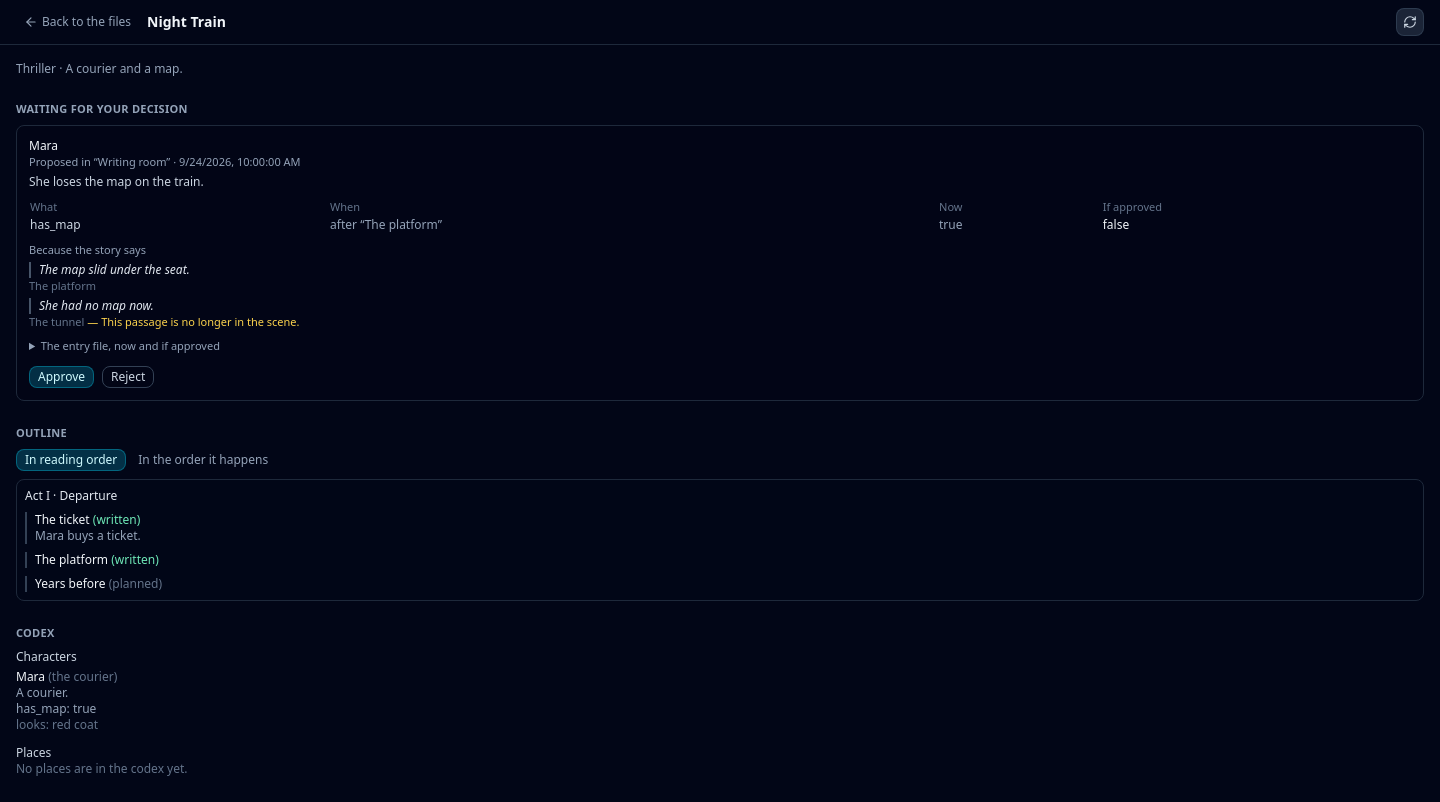
Test: StoryView, a story in Files (#1560) › a decision from a window the Core did not open shows its refusal and offers a confirmed window
Click the button with test id "story-approve".
click(62, 377)  # box [29,366,94,388]
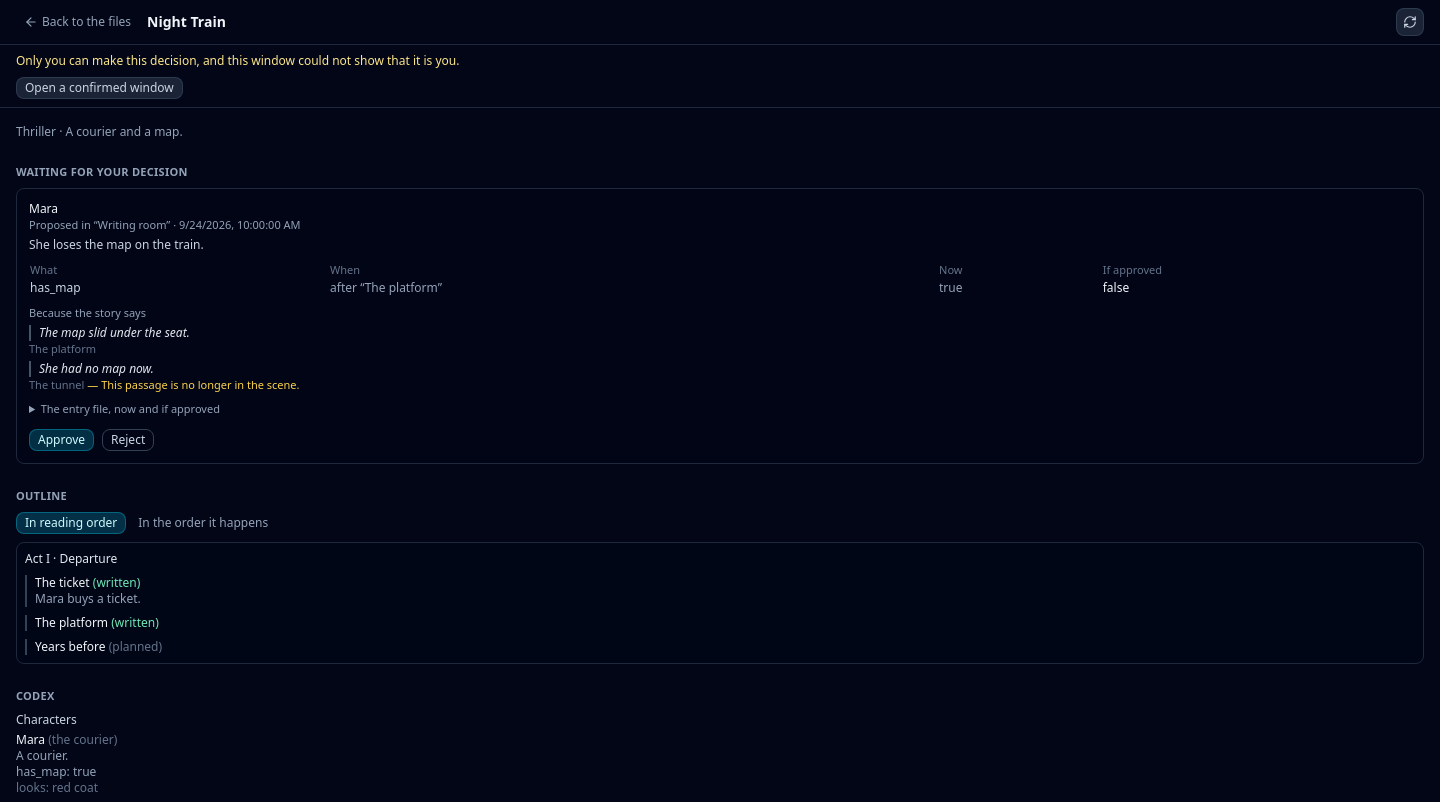
Check: the message with test id "story-view-notice" shows "Only you can make this decision, and this window could not show that it is you.", box [16,52,460,69]
Click the button with test id "story-open-confirmed-window".
click(99, 88)  # box [16,77,183,99]
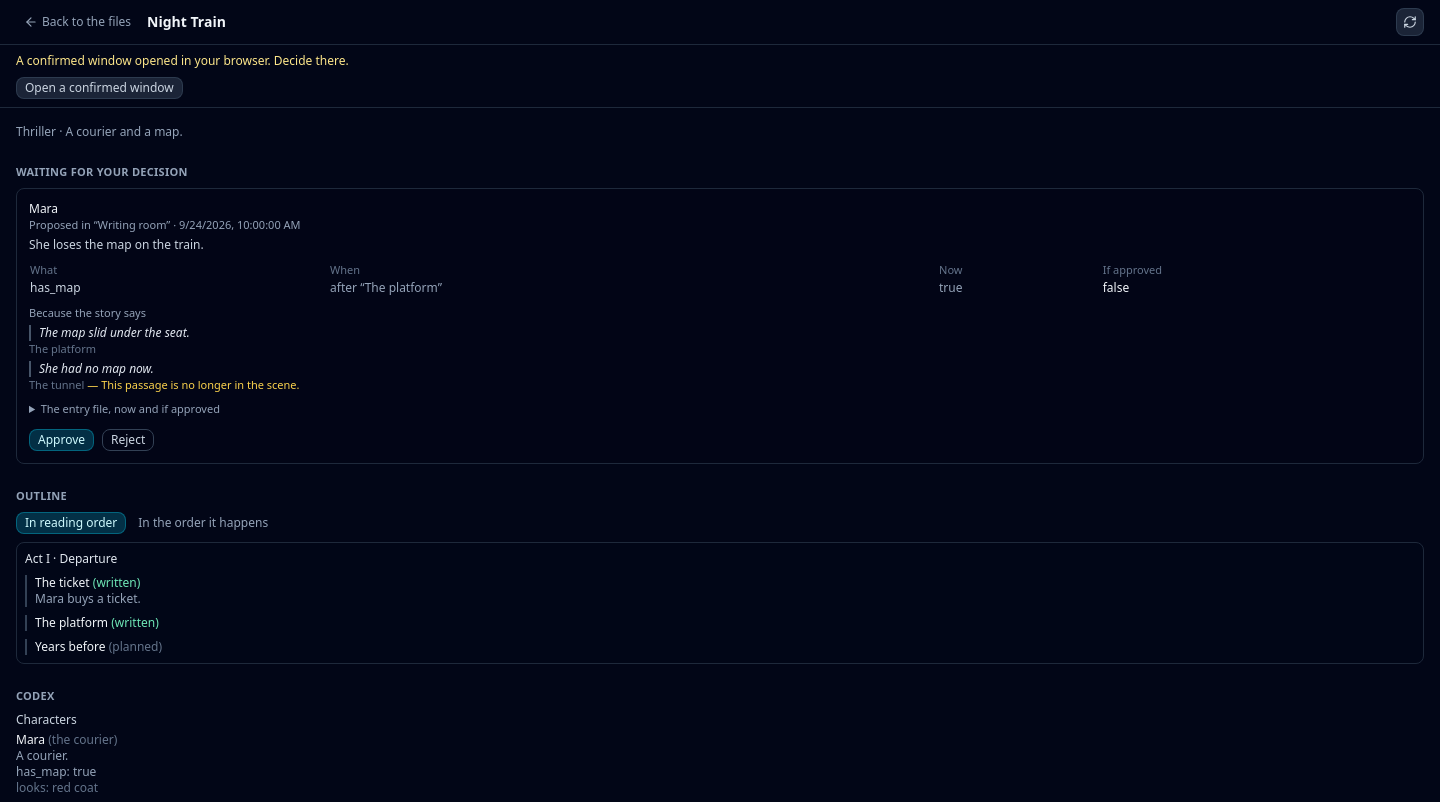
Check: the text "A confirmed window opened in your browser. Decide there." is shown, box [16,52,349,69]
